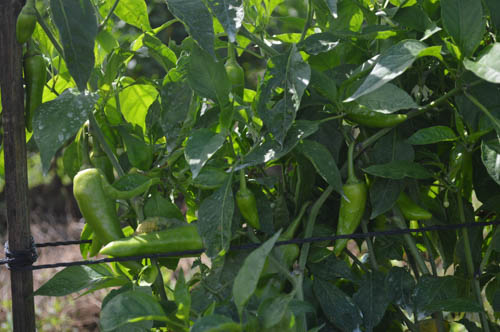ChiliPepper: (73, 170, 138, 273), (100, 227, 211, 252), (333, 183, 369, 256), (24, 55, 48, 135), (347, 103, 407, 130), (395, 193, 431, 225), (238, 190, 265, 231)
